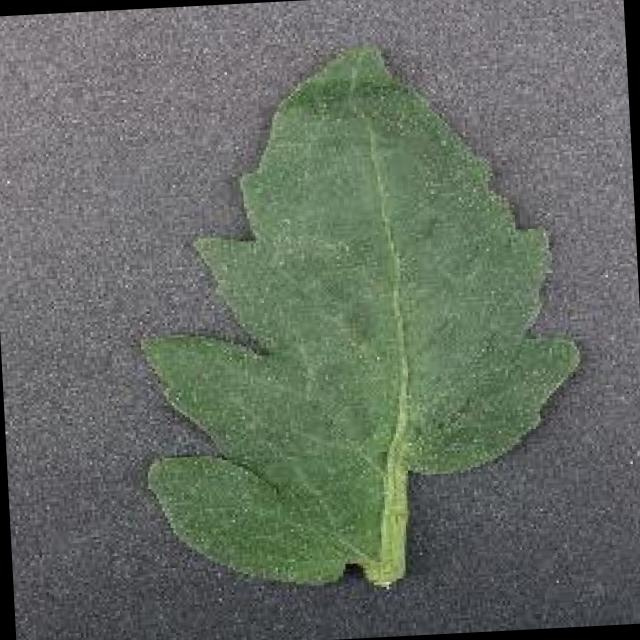Tomato_Healthy: (114, 22, 601, 596)
